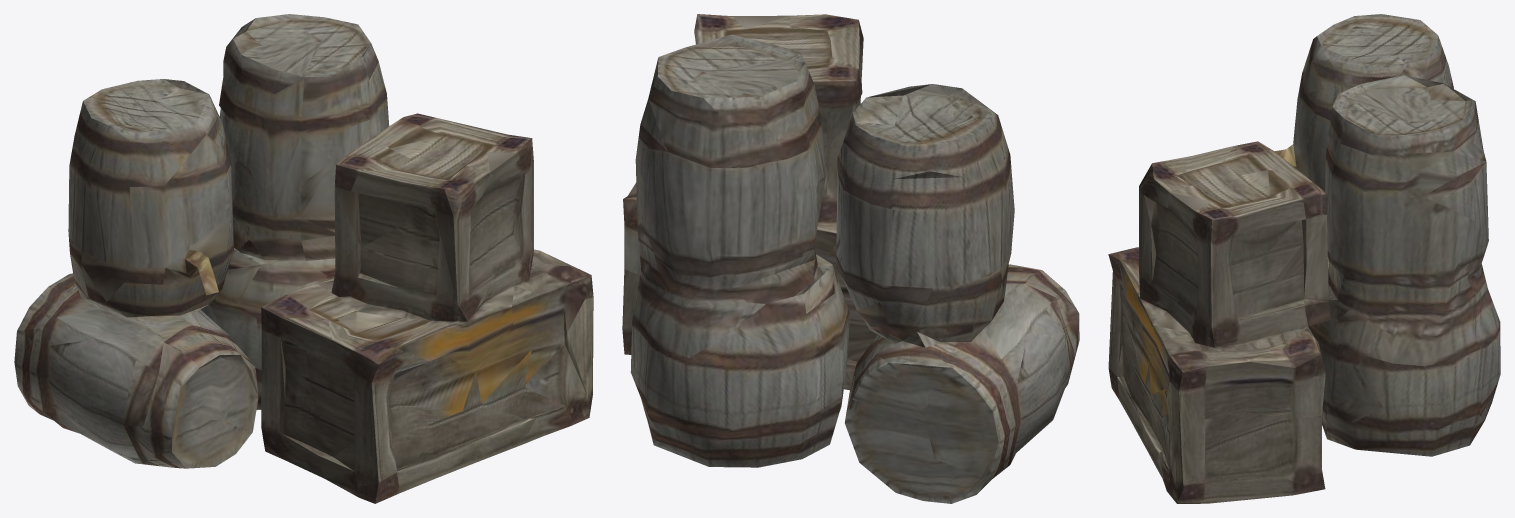
File: barrels_lod.glb
The picture shows the model from 3 angles, left to right: view 1: azimuth 30°, elevation 25°; view 2: azimuth 150°, elevation 25°; view 3: azimuth 270°, elevation 25°; orthographic projection. The views are drawn at different scales.
Visible parts, largest first — view 1: mesh_node; view 2: mesh_node; view 3: mesh_node.
Part boxes in pixels (x1,y1,x2,y2): mesh_node: [14, 14, 593, 503]; mesh_node: [622, 14, 1079, 503]; mesh_node: [1108, 14, 1500, 503].
Size of the model in its own units: 1.88 by 1.37 by 1.49.
1 material, 1 textured.
